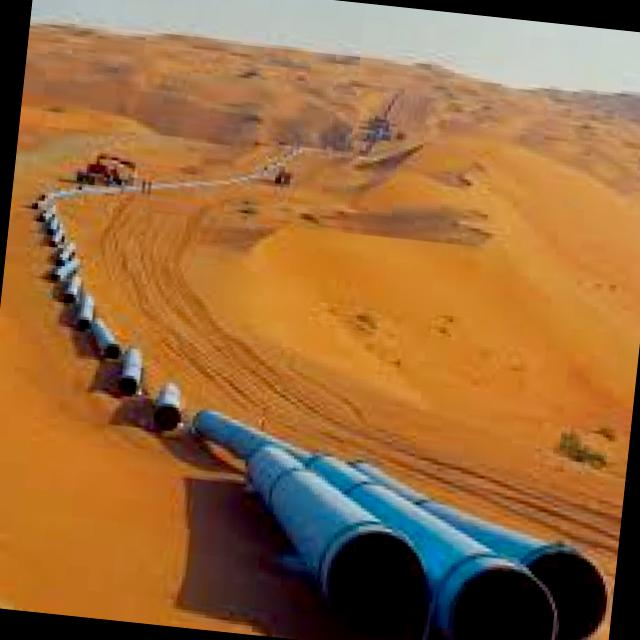gas: (314, 458, 555, 640), (249, 449, 428, 623), (418, 497, 606, 640), (195, 410, 280, 458)
